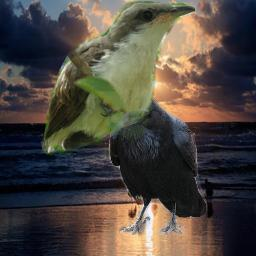Crow: (108, 93, 208, 235)
Cuckoo: (40, 0, 195, 157)
